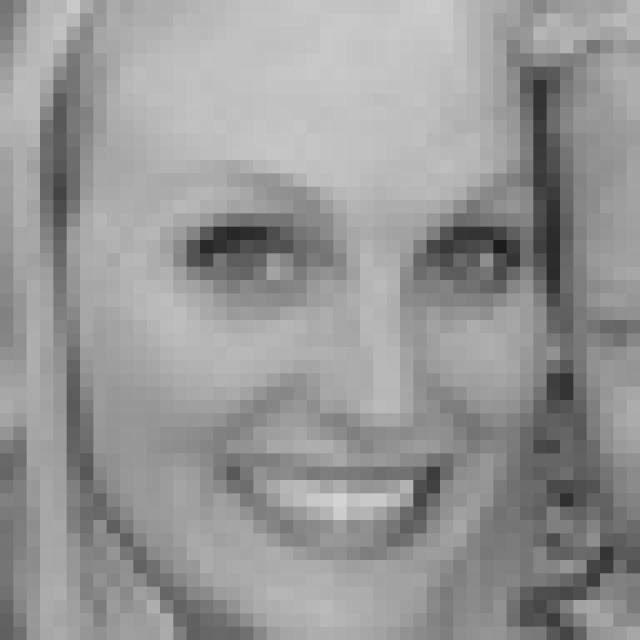happy: (143, 158, 534, 575)
